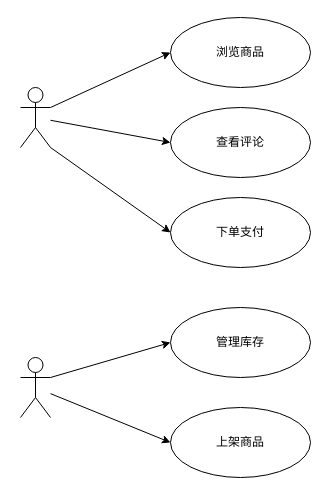
Image size: 328x495. Some labels were removed from this diagram. Each missing label, with the box of its shape:
消费者: (20, 86, 50, 148)
管理者: (20, 356, 50, 418)
